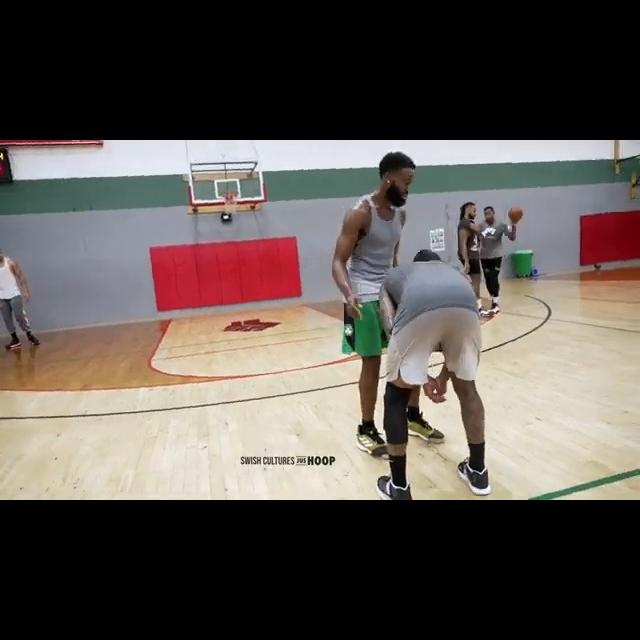basketball: (508, 206, 524, 222)
hoop: (221, 191, 239, 214)
